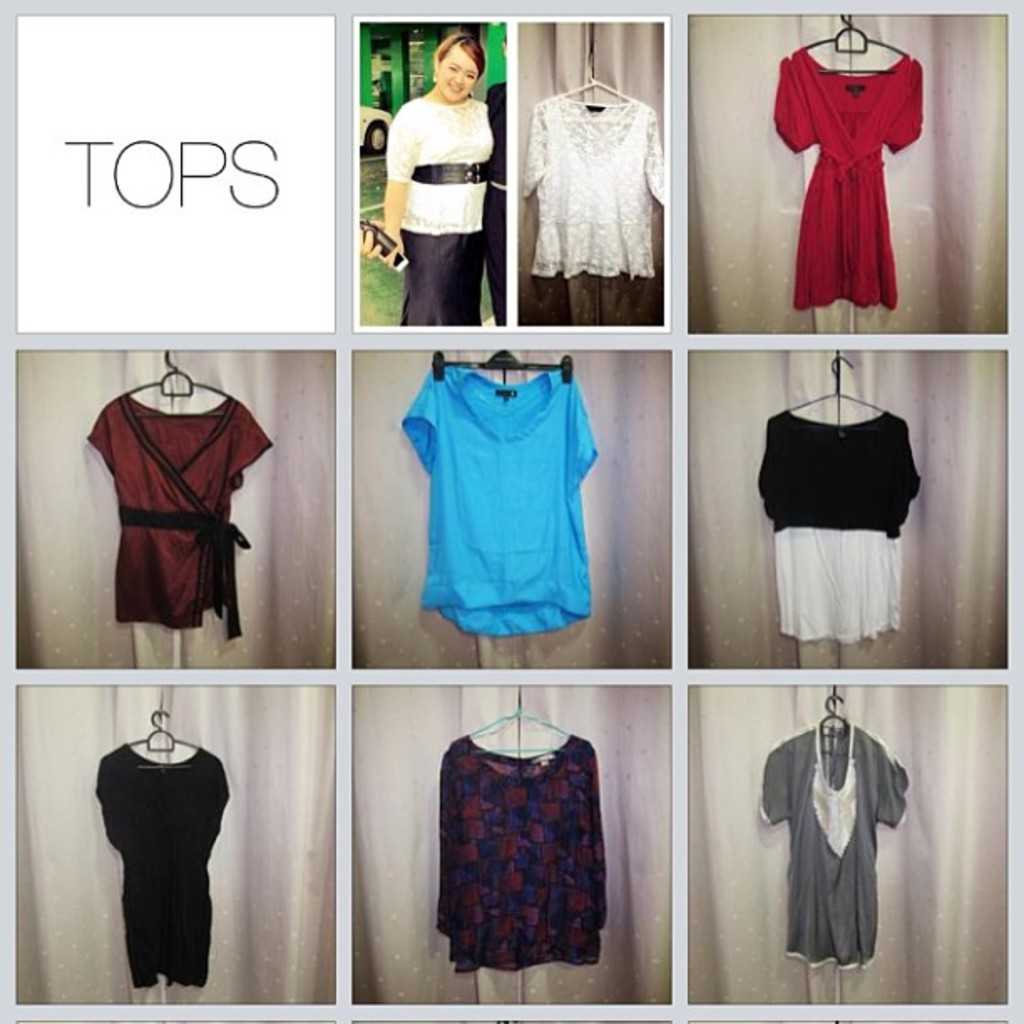Person: (359, 31, 494, 326)
